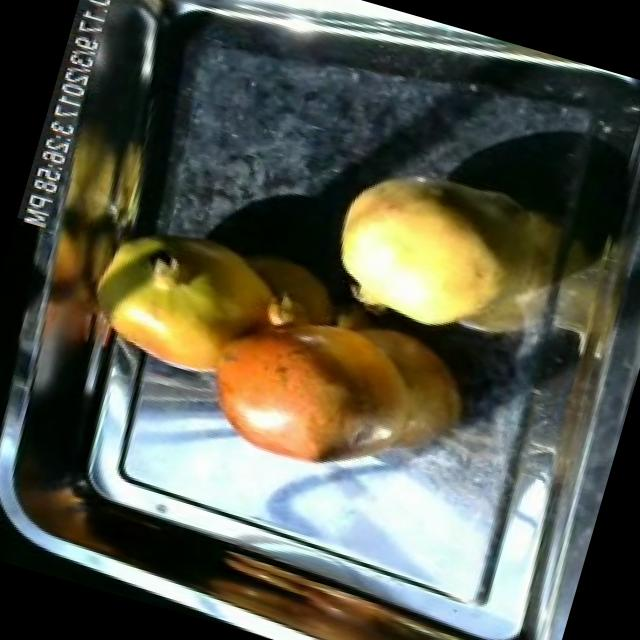fruit: (180, 276, 443, 502), (307, 140, 554, 360), (66, 200, 305, 406)
